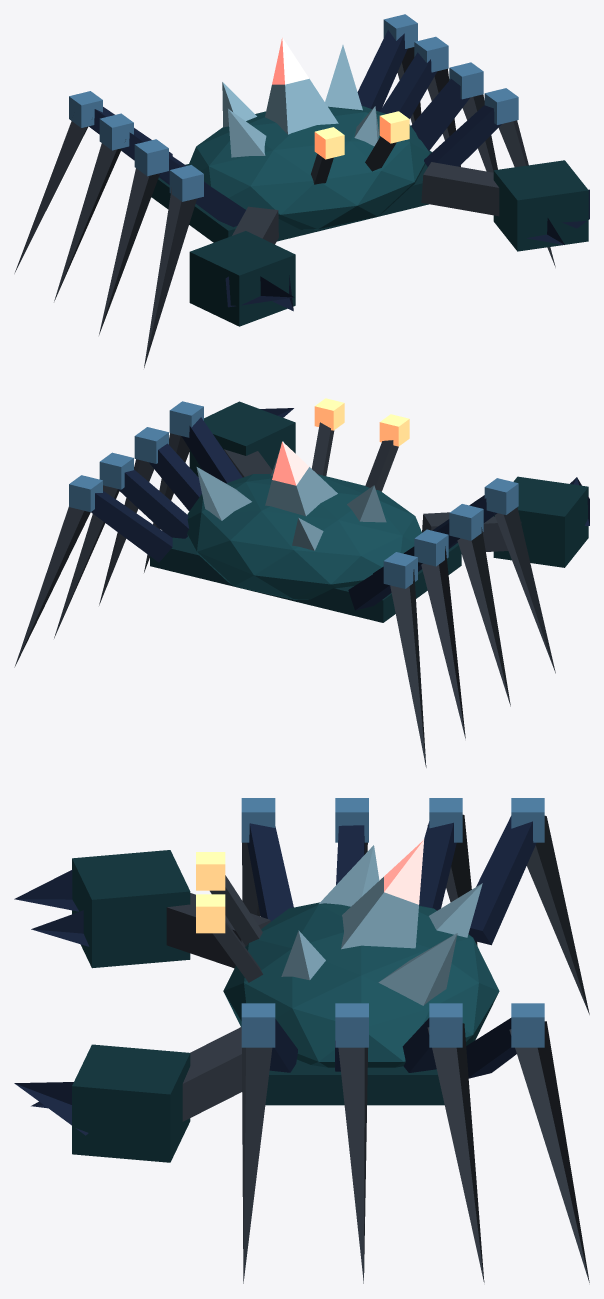
The model's file is spider.glb.
The picture shows the model from 3 angles, top to bottom: view 1: azimuth 30°, elevation 25°; view 2: azimuth 150°, elevation 25°; view 3: azimuth 270°, elevation 25°; orthographic projection. The views are drawn at different scales.
Parts seen in each view (by area): view 1: ISpiderHull, ISpiderGlow; view 2: ISpiderHull, ISpiderGlow; view 3: ISpiderHull, ISpiderGlow.
Boxes of the visible parts, x1=… form: ISpiderHull: x1=14, y1=14, x2=589, y2=367; ISpiderGlow: x1=272, y1=37, x2=409, y2=159; ISpiderHull: x1=14, y1=401, x2=589, y2=767; ISpiderGlow: x1=272, y1=398, x2=409, y2=485; ISpiderHull: x1=14, y1=798, x2=589, y2=1283; ISpiderGlow: x1=196, y1=839, x2=424, y2=933.
Bounding box in the file's own units: 1.52 × 0.82 × 1.38.
